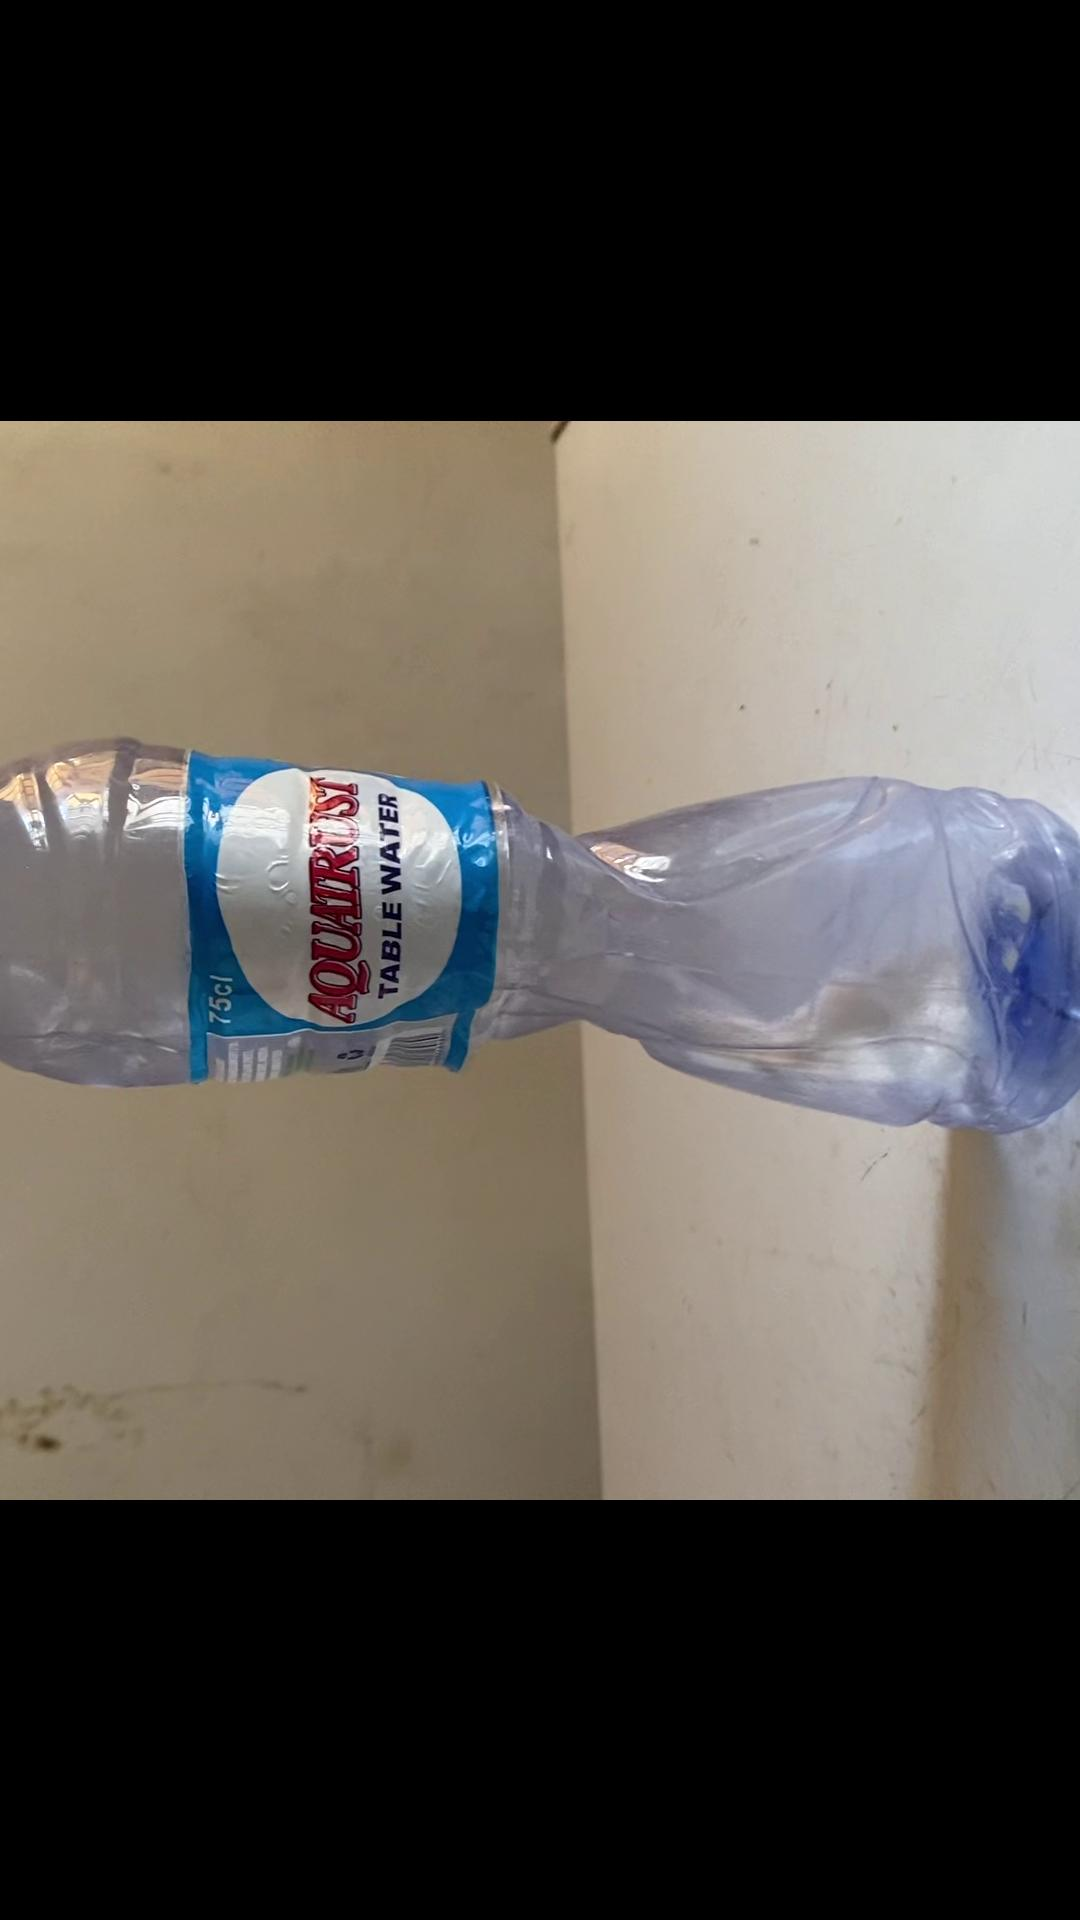crumbled: (0, 727, 1080, 1139)
label: (174, 769, 491, 1096)
